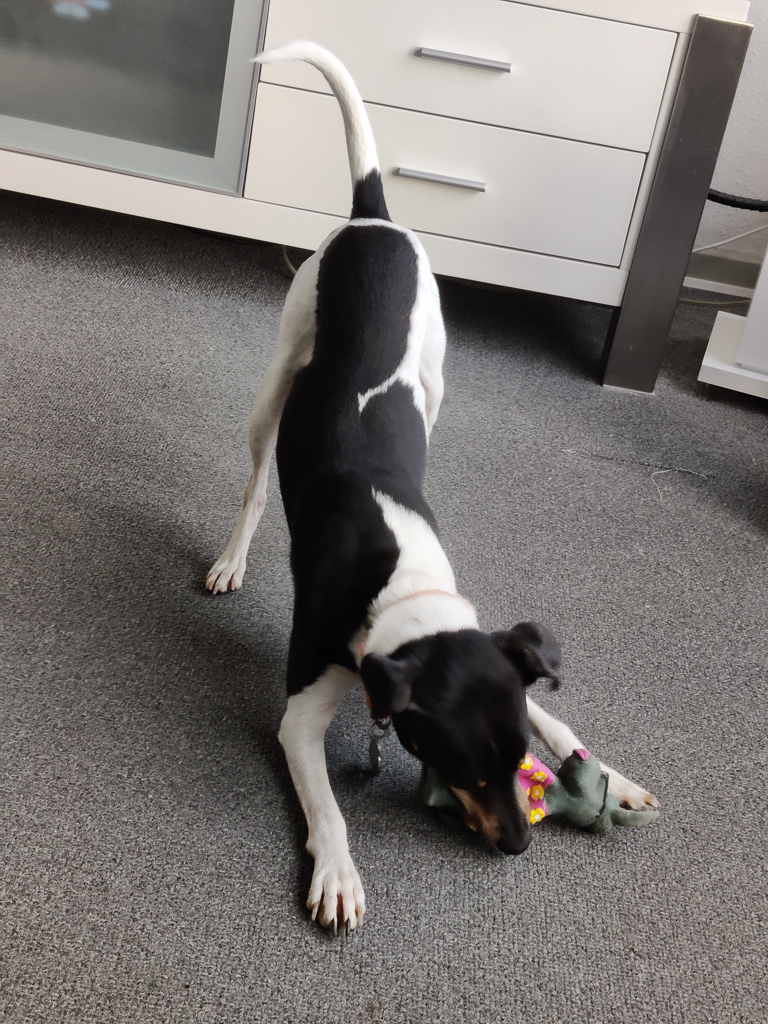Dog: (130, 23, 684, 954)
Humanoid: (399, 723, 670, 861)
